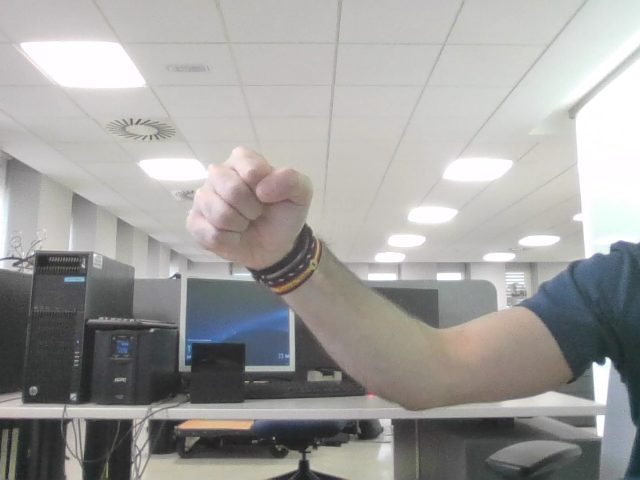Puño: (199, 157, 297, 238)
